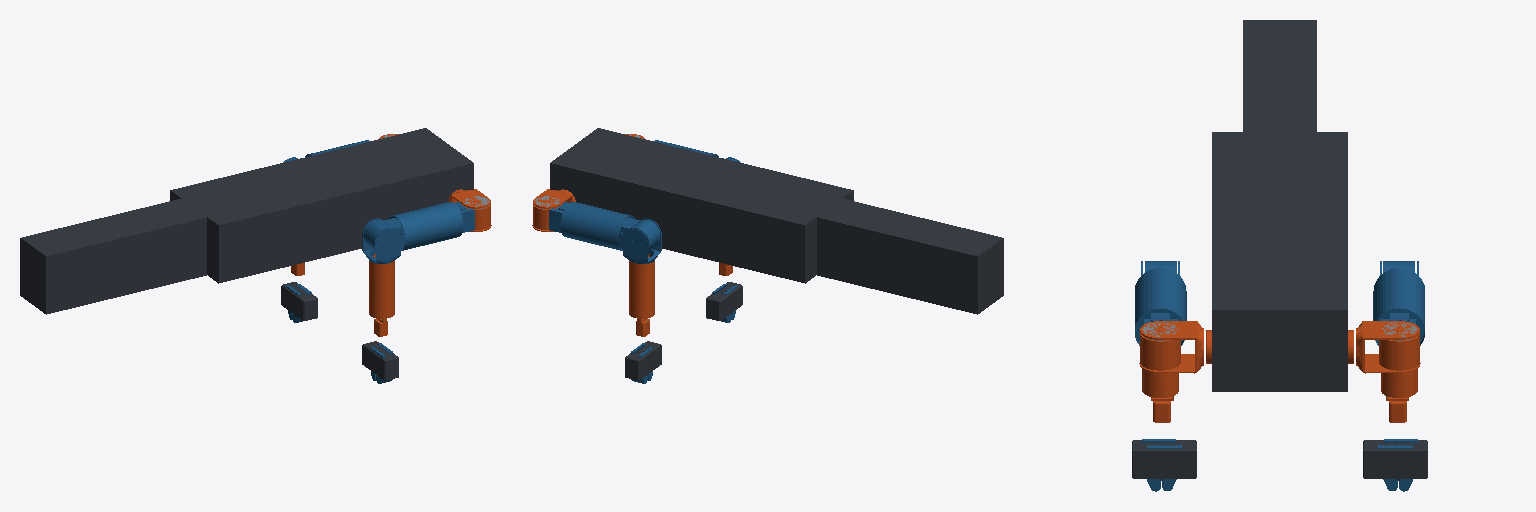
robot.urdf — robothath:
<?xml version="1.0" ?>
<!-- =================================================================================== -->
<!-- |    This document was autogenerated by xacro from /home/adriza/robocup_arm_sim/ros2_ws/src/RoboticArm/urdf/robothath.urdf.xacro | -->
<!-- |    EDITING THIS FILE BY HAND IS NOT RECOMMENDED                                 | -->
<!-- =================================================================================== -->
<!-- robothath - complete robot (xacro), generated from robothath.step.
     Millimetres in CAD; metres / kg / radians here.
     Two identical limbs mirrored about CAD plane Y = 261.8 mm (0.5236 m apart).
     base_link's frame is the CAD world origin.

     Joint positions and the pitch axes were measured from the CAD:
       wrist pitch  : clevis pin, R=5 mm, axis Y, CAD (-342.3, *, -283.0)
       wrist roll   : bolt-circle centre, axis Z, CAD (-342.5, 3.4, -359.0)
     base_yaw and shoulder_pitch axes were set by hand and override the bores.
     Joint LIMITS and the gripper actuation are assumptions. -->
<robot name="robothath">
  <material name="grey">
    <color rgba="0.55 0.57 0.60 1"/>
  </material>
  <material name="orange">
    <color rgba="0.78 0.35 0.15 1"/>
  </material>
  <material name="steel">
    <color rgba="0.18 0.40 0.56 1"/>
  </material>
  <material name="green">
    <color rgba="0.20 0.55 0.40 1"/>
  </material>
  <material name="dark">
    <color rgba="0.25 0.27 0.30 1"/>
  </material>
  <link name="base_footprint"/>
  <joint name="base_footprint_joint" type="fixed">
    <parent link="base_footprint"/>
    <child link="base_link"/>
    <origin rpy="0 0 0" xyz="0 0 0"/>
  </joint>
  <link name="base_link">
    <visual>
      <geometry>
        <mesh filename="package://robothath_description/meshes/base_link.stl"/>
      </geometry>
      <material name="dark"/>
    </visual>
    <collision>
      <geometry>
        <mesh filename="package://robothath_description/meshes/base_link.stl"/>
      </geometry>
    </collision>
    <inertial>
      <origin rpy="0 0 0" xyz="-0.59917 0.26181 -0.00791"/>
      <mass value="20.0000"/>
      <inertia ixx="0.189936" ixy="0.000000" ixz="-0.001891" iyy="3.346280" iyz="0.000000" izz="3.401775"/>
    </inertial>
  </link>
  <joint name="l_base_mount_joint" type="fixed">
    <parent link="base_link"/>
    <child link="l_motor_mount"/>
    <origin rpy="0 0 0" xyz="0 0 0"/>
  </joint>
  <link name="l_motor_mount">
    <visual>
      <geometry>
        <mesh filename="package://robothath_description/meshes/l_motor_mount.stl"/>
      </geometry>
      <material name="grey"/>
    </visual>
    <collision>
      <geometry>
        <mesh filename="package://robothath_description/meshes/l_motor_mount.stl"/>
      </geometry>
    </collision>
    <inertial>
      <origin rpy="0 0 0" xyz="0.00000 0.00005 -0.00172"/>
      <mass value="0.4243"/>
      <inertia ixx="0.000181" ixy="0.000000" ixz="0.000000" iyy="0.000182" iyz="0.000000" izz="0.000285"/>
    </inertial>
  </link>
  <joint name="l_base_yaw_joint" type="revolute">
    <parent link="l_motor_mount"/>
    <child link="l_yaw_link"/>
    <origin rpy="0 0 0" xyz="0.0000 0 0.0000"/>
    <axis xyz="0 1 0"/>
    <limit effort="40" lower="-3.1416" upper="3.1416" velocity="3.0"/>
  </joint>
  <link name="l_yaw_link">
    <visual>
      <geometry>
        <mesh filename="package://robothath_description/meshes/l_yaw_link.stl"/>
      </geometry>
      <material name="orange"/>
    </visual>
    <collision>
      <geometry>
        <mesh filename="package://robothath_description/meshes/l_yaw_link.stl"/>
      </geometry>
    </collision>
    <inertial>
      <origin rpy="0 0 0" xyz="0.00377 0.05427 -0.02738"/>
      <mass value="1.4721"/>
      <inertia ixx="0.001939" ixy="0.000005" ixz="-0.000016" iyy="0.001448" iyz="0.000037" izz="0.001804"/>
    </inertial>
  </link>
  <joint name="l_shoulder_pitch_joint" type="revolute">
    <parent link="l_yaw_link"/>
    <child link="l_shoulder_link"/>
    <origin rpy="0 0 0" xyz="0.0000 0 -0.0250"/>
    <axis xyz="0 0 1"/>
    <limit effort="40" lower="-2.0944" upper="2.0944" velocity="3.0"/>
  </joint>
  <link name="l_shoulder_link">
    <inertial>
      <origin rpy="0 0 0" xyz="0 0 0"/>
      <mass value="0.001"/>
      <inertia ixx="1e-6" ixy="0" ixz="0" iyy="1e-6" iyz="0" izz="1e-6"/>
    </inertial>
  </link>
  <joint name="l_shoulder_roll_joint" type="revolute">
    <parent link="l_shoulder_link"/>
    <child link="l_upper_arm_link"/>
    <origin rpy="0 0 0" xyz="0.0000 0 0.0000"/>
    <axis xyz="1 0 0"/>
    <limit effort="40" lower="-2.0944" upper="2.0944" velocity="3.0"/>
  </joint>
  <link name="l_upper_arm_link">
    <visual>
      <geometry>
        <mesh filename="package://robothath_description/meshes/l_upper_arm_link.stl"/>
      </geometry>
      <material name="steel"/>
    </visual>
    <collision>
      <geometry>
        <mesh filename="package://robothath_description/meshes/l_upper_arm_link.stl"/>
      </geometry>
    </collision>
    <inertial>
      <origin rpy="0 0 0" xyz="-0.22785 0.00304 -0.00424"/>
      <mass value="2.3086"/>
      <inertia ixx="0.003372" ixy="-0.000011" ixz="0.000004" iyy="0.003511" iyz="0.000013" izz="0.003458"/>
    </inertial>
  </link>
  <joint name="l_elbow_pitch_joint" type="revolute">
    <parent link="l_upper_arm_link"/>
    <child link="l_forearm_link"/>
    <origin rpy="0 0 0" xyz="-0.3420 0 0.0000"/>
    <axis xyz="0 1 0"/>
    <limit effort="30" lower="-2.618" upper="2.618" velocity="3.0"/>
  </joint>
  <link name="l_forearm_link">
    <visual>
      <geometry>
        <mesh filename="package://robothath_description/meshes/l_forearm_link.stl"/>
      </geometry>
      <material name="orange"/>
    </visual>
    <collision>
      <geometry>
        <mesh filename="package://robothath_description/meshes/l_forearm_link.stl"/>
      </geometry>
    </collision>
    <inertial>
      <origin rpy="0 0 0" xyz="-0.00039 0.00256 -0.18329"/>
      <mass value="0.5888"/>
      <inertia ixx="0.001419" ixy="-0.000000" ixz="0.000001" iyy="0.001354" iyz="0.000004" izz="0.000442"/>
    </inertial>
  </link>
  <joint name="l_wrist_joint" type="revolute">
    <parent link="l_forearm_link"/>
    <child link="l_wrist_link"/>
    <origin rpy="0 0 0" xyz="-0.0003 0 -0.2580"/>
    <axis xyz="0 1 0"/>
    <limit effort="20" lower="-1.5708" upper="1.5708" velocity="3.0"/>
  </joint>
  <link name="l_wrist_link">
    <visual>
      <geometry>
        <mesh filename="package://robothath_description/meshes/l_wrist_link.stl"/>
      </geometry>
      <material name="green"/>
    </visual>
    <collision>
      <geometry>
        <mesh filename="package://robothath_description/meshes/l_wrist_link.stl"/>
      </geometry>
    </collision>
    <inertial>
      <origin rpy="0 0 0" xyz="-0.00020 0.00345 -0.04940"/>
      <mass value="0.1787"/>
      <inertia ixx="0.000057" ixy="0.000000" ixz="0.000000" iyy="0.000046" iyz="0.000000" izz="0.000040"/>
    </inertial>
  </link>
  <joint name="l_wrist_roll_joint" type="revolute">
    <parent link="l_wrist_link"/>
    <child link="l_gripper_base"/>
    <origin rpy="0 0 0" xyz="-0.0002 0.0034 -0.0760"/>
    <axis xyz="0 0 1"/>
    <limit effort="10" lower="-3.1416" upper="3.1416" velocity="3.0"/>
  </joint>
  <link name="l_gripper_base">
    <visual>
      <geometry>
        <mesh filename="package://robothath_description/meshes/l_gripper_base.stl"/>
      </geometry>
      <material name="dark"/>
    </visual>
    <collision>
      <geometry>
        <mesh filename="package://robothath_description/meshes/l_gripper_base.stl"/>
      </geometry>
    </collision>
    <inertial>
      <origin rpy="0 0 0" xyz="0.00310 0.00186 -0.02610"/>
      <mass value="0.9586"/>
      <inertia ixx="0.001854" ixy="-0.000000" ixz="-0.000000" iyy="0.000447" iyz="-0.000000" izz="0.001879"/>
    </inertial>
  </link>
  <joint name="l_finger_inner_joint" type="prismatic">
    <parent link="l_gripper_base"/>
    <child link="l_finger_inner"/>
    <origin rpy="0 0 0" xyz="0.0035 0.0189 -0.0710"/>
    <axis xyz="0 1 0"/>
    <limit effort="20" lower="0.0" upper="0.025" velocity="0.1"/>
  </joint>
  <link name="l_finger_inner">
    <visual>
      <geometry>
        <mesh filename="package://robothath_description/meshes/l_finger_inner.stl"/>
      </geometry>
      <material name="steel"/>
    </visual>
    <collision>
      <geometry>
        <mesh filename="package://robothath_description/meshes/l_finger_inner.stl"/>
      </geometry>
    </collision>
    <inertial>
      <origin rpy="0 0 0" xyz="0.00042 0.00001 -0.03766"/>
      <mass value="0.3767"/>
      <inertia ixx="0.000316" ixy="0.000003" ixz="-0.000019" iyy="0.000334" iyz="-0.000019" izz="0.000116"/>
    </inertial>
  </link>
  <joint name="l_finger_outer_joint" type="prismatic">
    <parent link="l_gripper_base"/>
    <child link="l_finger_outer"/>
    <origin rpy="0 0 0" xyz="0.0035 -0.0209 -0.0710"/>
    <axis xyz="0 -1 0"/>
    <limit effort="20" lower="0.0" upper="0.025" velocity="0.1"/>
    <mimic joint="l_finger_inner_joint" multiplier="1.0" offset="0.0"/>
  </joint>
  <link name="l_finger_outer">
    <visual>
      <geometry>
        <mesh filename="package://robothath_description/meshes/l_finger_outer.stl"/>
      </geometry>
      <material name="steel"/>
    </visual>
    <collision>
      <geometry>
        <mesh filename="package://robothath_description/meshes/l_finger_outer.stl"/>
      </geometry>
    </collision>
    <inertial>
      <origin rpy="0 0 0" xyz="-0.00035 -0.00002 -0.03766"/>
      <mass value="0.3767"/>
      <inertia ixx="0.000316" ixy="0.000003" ixz="0.000019" iyy="0.000334" iyz="0.000019" izz="0.000116"/>
    </inertial>
  </link>
  <joint name="r_base_mount_joint" type="fixed">
    <parent link="base_link"/>
    <child link="r_motor_mount"/>
    <origin rpy="0 0 0" xyz="0 0.5236 0"/>
  </joint>
  <link name="r_motor_mount">
    <visual>
      <geometry>
        <mesh filename="package://robothath_description/meshes/r_motor_mount.stl"/>
      </geometry>
      <material name="grey"/>
    </visual>
    <collision>
      <geometry>
        <mesh filename="package://robothath_description/meshes/r_motor_mount.stl"/>
      </geometry>
    </collision>
    <inertial>
      <origin rpy="0 0 0" xyz="0.00000 -0.00004 -0.00172"/>
      <mass value="0.4243"/>
      <inertia ixx="0.000181" ixy="-0.000000" ixz="0.000000" iyy="0.000182" iyz="-0.000000" izz="0.000285"/>
    </inertial>
  </link>
  <joint name="r_base_yaw_joint" type="revolute">
    <parent link="r_motor_mount"/>
    <child link="r_yaw_link"/>
    <origin rpy="0 0 0" xyz="0.0000 0 0.0000"/>
    <axis xyz="0 1 0"/>
    <limit effort="40" lower="-3.1416" upper="3.1416" velocity="3.0"/>
  </joint>
  <link name="r_yaw_link">
    <visual>
      <geometry>
        <mesh filename="package://robothath_description/meshes/r_yaw_link.stl"/>
      </geometry>
      <material name="orange"/>
    </visual>
    <collision>
      <geometry>
        <mesh filename="package://robothath_description/meshes/r_yaw_link.stl"/>
      </geometry>
    </collision>
    <inertial>
      <origin rpy="0 0 0" xyz="0.00377 -0.05425 -0.02738"/>
      <mass value="1.4721"/>
      <inertia ixx="0.001939" ixy="-0.000005" ixz="-0.000016" iyy="0.001448" iyz="-0.000037" izz="0.001804"/>
    </inertial>
  </link>
  <joint name="r_shoulder_pitch_joint" type="revolute">
    <parent link="r_yaw_link"/>
    <child link="r_shoulder_link"/>
    <origin rpy="0 0 0" xyz="0.0000 0 -0.0250"/>
    <axis xyz="0 0 1"/>
    <limit effort="40" lower="-2.0944" upper="2.0944" velocity="3.0"/>
  </joint>
  <link name="r_shoulder_link">
    <inertial>
      <origin rpy="0 0 0" xyz="0 0 0"/>
      <mass value="0.001"/>
      <inertia ixx="1e-6" ixy="0" ixz="0" iyy="1e-6" iyz="0" izz="1e-6"/>
    </inertial>
  </link>
  <joint name="r_shoulder_roll_joint" type="revolute">
    <parent link="r_shoulder_link"/>
    <child link="r_upper_arm_link"/>
    <origin rpy="0 0 0" xyz="0.0000 0 0.0000"/>
    <axis xyz="1 0 0"/>
    <limit effort="40" lower="-2.0944" upper="2.0944" velocity="3.0"/>
  </joint>
  <link name="r_upper_arm_link">
    <visual>
      <geometry>
        <mesh filename="package://robothath_description/meshes/r_upper_arm_link.stl"/>
      </geometry>
      <material name="steel"/>
    </visual>
    <collision>
      <geometry>
        <mesh filename="package://robothath_description/meshes/r_upper_arm_link.stl"/>
      </geometry>
    </collision>
    <inertial>
      <origin rpy="0 0 0" xyz="-0.22785 -0.00303 -0.00424"/>
      <mass value="2.3086"/>
      <inertia ixx="0.003372" ixy="0.000011" ixz="0.000004" iyy="0.003511" iyz="-0.000013" izz="0.003458"/>
    </inertial>
  </link>
  <joint name="r_elbow_pitch_joint" type="revolute">
    <parent link="r_upper_arm_link"/>
    <child link="r_forearm_link"/>
    <origin rpy="0 0 0" xyz="-0.3420 0 0.0000"/>
    <axis xyz="0 1 0"/>
    <limit effort="30" lower="-2.618" upper="2.618" velocity="3.0"/>
  </joint>
  <link name="r_forearm_link">
    <visual>
      <geometry>
        <mesh filename="package://robothath_description/meshes/r_forearm_link.stl"/>
      </geometry>
      <material name="orange"/>
    </visual>
    <collision>
      <geometry>
        <mesh filename="package://robothath_description/meshes/r_forearm_link.stl"/>
      </geometry>
    </collision>
    <inertial>
      <origin rpy="0 0 0" xyz="-0.00039 -0.00255 -0.18329"/>
      <mass value="0.5888"/>
      <inertia ixx="0.001419" ixy="0.000000" ixz="0.000001" iyy="0.001354" iyz="-0.000004" izz="0.000442"/>
    </inertial>
  </link>
  <joint name="r_wrist_joint" type="revolute">
    <parent link="r_forearm_link"/>
    <child link="r_wrist_link"/>
    <origin rpy="0 0 0" xyz="-0.0003 0 -0.2580"/>
    <axis xyz="0 1 0"/>
    <limit effort="20" lower="-1.5708" upper="1.5708" velocity="3.0"/>
  </joint>
  <link name="r_wrist_link">
    <visual>
      <geometry>
        <mesh filename="package://robothath_description/meshes/r_wrist_link.stl"/>
      </geometry>
      <material name="green"/>
    </visual>
    <collision>
      <geometry>
        <mesh filename="package://robothath_description/meshes/r_wrist_link.stl"/>
      </geometry>
    </collision>
    <inertial>
      <origin rpy="0 0 0" xyz="-0.00020 -0.00344 -0.04940"/>
      <mass value="0.1787"/>
      <inertia ixx="0.000057" ixy="0.000000" ixz="0.000000" iyy="0.000046" iyz="0.000000" izz="0.000040"/>
    </inertial>
  </link>
  <joint name="r_wrist_roll_joint" type="revolute">
    <parent link="r_wrist_link"/>
    <child link="r_gripper_base"/>
    <origin rpy="0 0 0" xyz="-0.0002 -0.0034 -0.0760"/>
    <axis xyz="0 0 1"/>
    <limit effort="10" lower="-3.1416" upper="3.1416" velocity="3.0"/>
  </joint>
  <link name="r_gripper_base">
    <visual>
      <geometry>
        <mesh filename="package://robothath_description/meshes/r_gripper_base.stl"/>
      </geometry>
      <material name="dark"/>
    </visual>
    <collision>
      <geometry>
        <mesh filename="package://robothath_description/meshes/r_gripper_base.stl"/>
      </geometry>
    </collision>
    <inertial>
      <origin rpy="0 0 0" xyz="0.00310 -0.00185 -0.02610"/>
      <mass value="0.9586"/>
      <inertia ixx="0.001854" ixy="0.000000" ixz="-0.000000" iyy="0.000447" iyz="0.000000" izz="0.001879"/>
    </inertial>
  </link>
  <joint name="r_finger_inner_joint" type="prismatic">
    <parent link="r_gripper_base"/>
    <child link="r_finger_inner"/>
    <origin rpy="0 0 0" xyz="0.0035 -0.0189 -0.0710"/>
    <axis xyz="0 -1 0"/>
    <limit effort="20" lower="0.0" upper="0.025" velocity="0.1"/>
  </joint>
  <link name="r_finger_inner">
    <visual>
      <geometry>
        <mesh filename="package://robothath_description/meshes/r_finger_inner.stl"/>
      </geometry>
      <material name="steel"/>
    </visual>
    <collision>
      <geometry>
        <mesh filename="package://robothath_description/meshes/r_finger_inner.stl"/>
      </geometry>
    </collision>
    <inertial>
      <origin rpy="0 0 0" xyz="0.00042 -0.00000 -0.03766"/>
      <mass value="0.3767"/>
      <inertia ixx="0.000316" ixy="-0.000003" ixz="-0.000019" iyy="0.000334" iyz="0.000019" izz="0.000116"/>
    </inertial>
  </link>
  <joint name="r_finger_outer_joint" type="prismatic">
    <parent link="r_gripper_base"/>
    <child link="r_finger_outer"/>
    <origin rpy="0 0 0" xyz="0.0035 0.0209 -0.0710"/>
    <axis xyz="0 1 0"/>
    <limit effort="20" lower="0.0" upper="0.025" velocity="0.1"/>
    <mimic joint="r_finger_inner_joint" multiplier="1.0" offset="0.0"/>
  </joint>
  <link name="r_finger_outer">
    <visual>
      <geometry>
        <mesh filename="package://robothath_description/meshes/r_finger_outer.stl"/>
      </geometry>
      <material name="steel"/>
    </visual>
    <collision>
      <geometry>
        <mesh filename="package://robothath_description/meshes/r_finger_outer.stl"/>
      </geometry>
    </collision>
    <inertial>
      <origin rpy="0 0 0" xyz="-0.00035 0.00003 -0.03766"/>
      <mass value="0.3767"/>
      <inertia ixx="0.000316" ixy="-0.000003" ixz="0.000019" iyy="0.000334" iyz="-0.000019" izz="0.000116"/>
    </inertial>
  </link>
</robot>

--- Facts derived from the render (not from the file) ---
The picture shows the robot from 3 angles, left to right: view 1: azimuth 30°, elevation 25°; view 2: azimuth 150°, elevation 25°; view 3: azimuth 270°, elevation 25°; orthographic projection.
Robot: robothath — 20 links, 19 joints (12 revolute, 4 prismatic, 3 fixed); root link base_footprint; default pose: every joint at zero.
Visible links, largest first — view 1: base_link, l_upper_arm_link, l_forearm_link, l_gripper_base, r_gripper_base, l_yaw_link; view 2: base_link, r_upper_arm_link, r_forearm_link, r_gripper_base, l_gripper_base, r_yaw_link; view 3: base_link, r_yaw_link, l_yaw_link, l_upper_arm_link, r_upper_arm_link, l_gripper_base, r_gripper_base, l_forearm_link, r_forearm_link.
Link boxes in pixels (x1=…): base_link: x1=20, y1=128, x2=473, y2=314; l_upper_arm_link: x1=362, y1=202, x2=475, y2=263; l_forearm_link: x1=369, y1=254, x2=394, y2=336; l_gripper_base: x1=362, y1=341, x2=398, y2=380; r_gripper_base: x1=281, y1=282, x2=317, y2=320; l_yaw_link: x1=448, y1=189, x2=491, y2=231; base_link: x1=550, y1=128, x2=1003, y2=314; r_upper_arm_link: x1=548, y1=202, x2=661, y2=263; r_forearm_link: x1=629, y1=254, x2=654, y2=336; r_gripper_base: x1=625, y1=341, x2=661, y2=380; l_gripper_base: x1=706, y1=282, x2=742, y2=320; r_yaw_link: x1=532, y1=189, x2=575, y2=231; base_link: x1=1212, y1=20, x2=1347, y2=391; r_yaw_link: x1=1348, y1=321, x2=1420, y2=373; l_yaw_link: x1=1139, y1=321, x2=1211, y2=373; l_upper_arm_link: x1=1135, y1=261, x2=1186, y2=345; r_upper_arm_link: x1=1373, y1=261, x2=1424, y2=345; l_gripper_base: x1=1132, y1=440, x2=1196, y2=480; r_gripper_base: x1=1363, y1=440, x2=1427, y2=480; l_forearm_link: x1=1142, y1=369, x2=1178, y2=422; r_forearm_link: x1=1381, y1=369, x2=1417, y2=422.
Bounding box of the posed robot: 1.5 × 0.6487 × 0.6125 m (x, y, z).
17 mesh visuals loaded from 17 distinct referenced files (17 binary STL).
